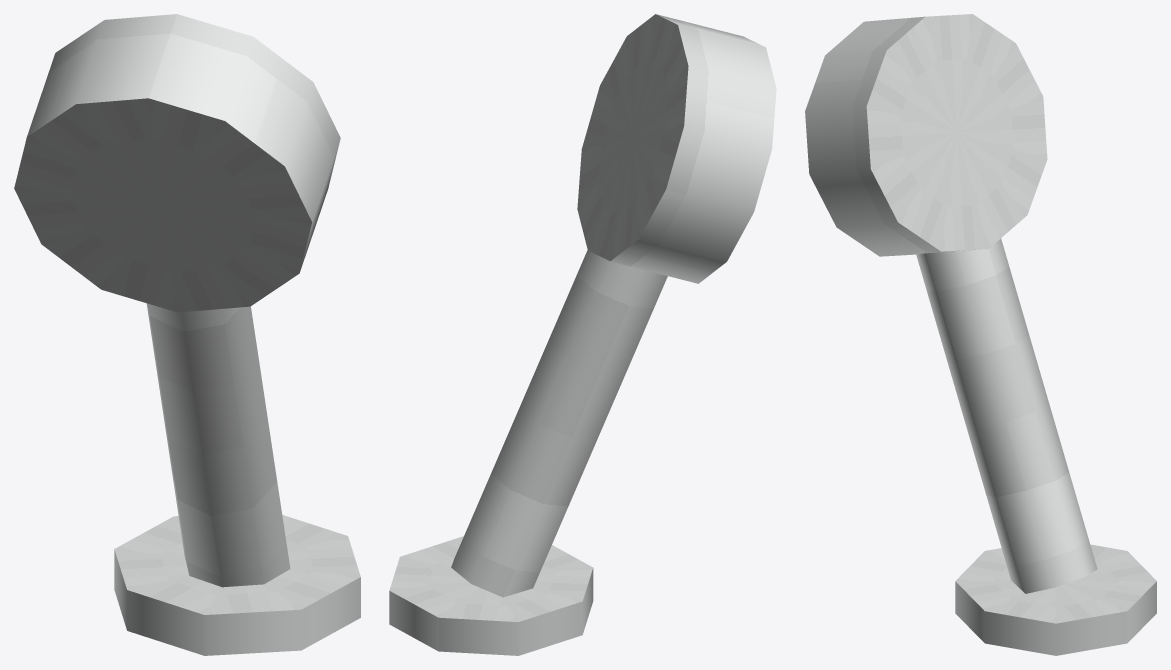
The model's file is nycsignalarm_stub_92.obj.
The picture shows the model from 3 angles, left to right: view 1: azimuth 30°, elevation 25°; view 2: azimuth 150°, elevation 25°; view 3: azimuth 270°, elevation 25°; orthographic projection. The views are drawn at different scales.
Visible parts, largest first — view 1: nycsignalarm_stub_92; view 2: nycsignalarm_stub_92; view 3: nycsignalarm_stub_92.
Part boxes in pixels (box(x1,y1,x2,y2)): nycsignalarm_stub_92: box(14, 14, 360, 655); nycsignalarm_stub_92: box(389, 14, 776, 655); nycsignalarm_stub_92: box(805, 14, 1156, 655).
Size of the model in its own units: 0.6109 by 1.04 by 0.6109.
